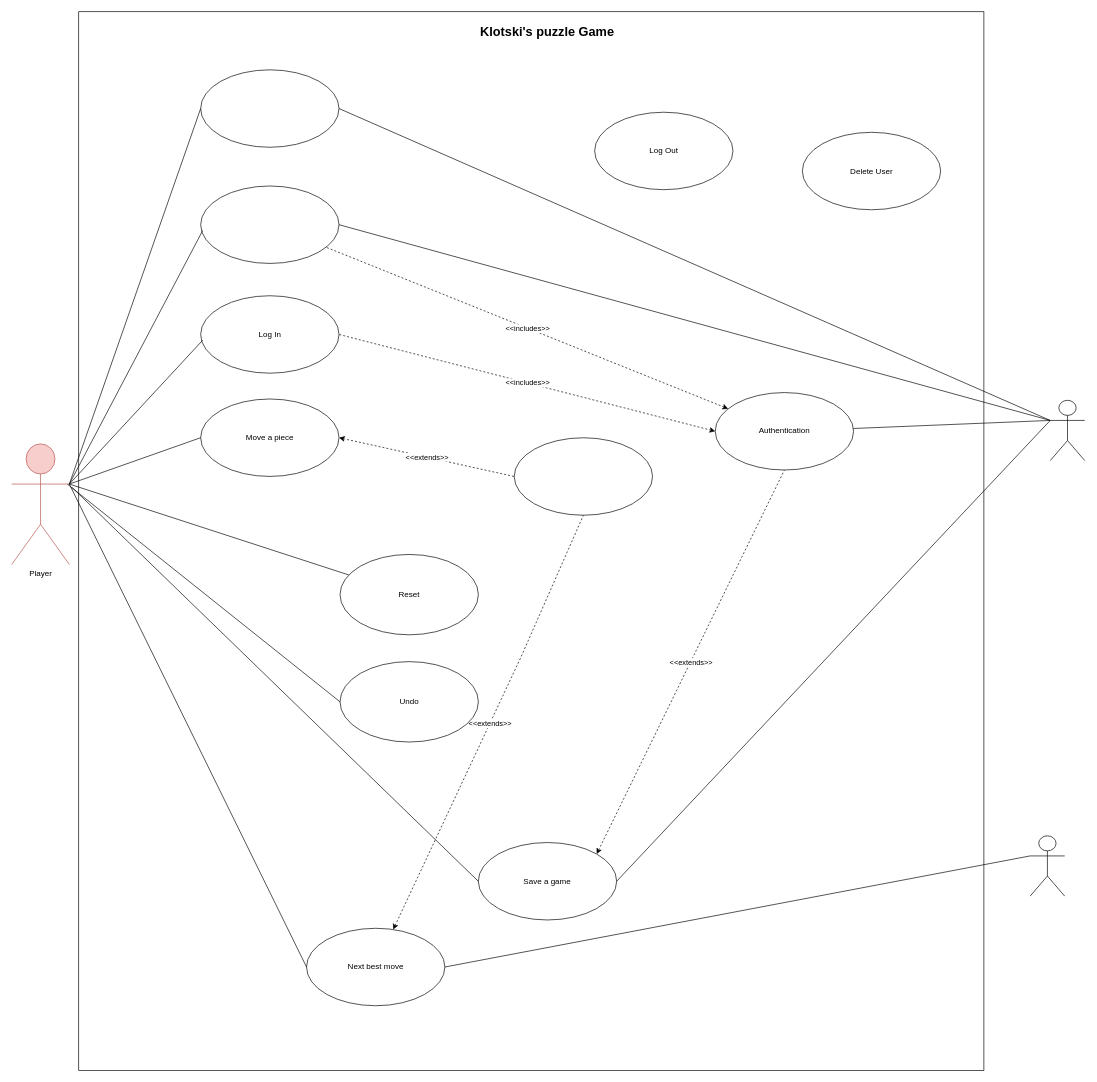
Image size: 1097x1082. Some labels were removed from this diagram. Each missing label, with the centre of its shape:
Chose a initial configuration: the point at 269,108
Database: the point at 1067,430
Registration: the point at 269,224
Solver: the point at 1047,865
Win message: the point at 583,476
